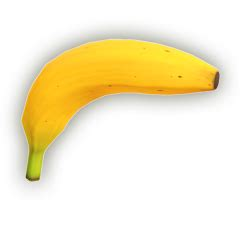banana: (17, 37, 224, 154)
